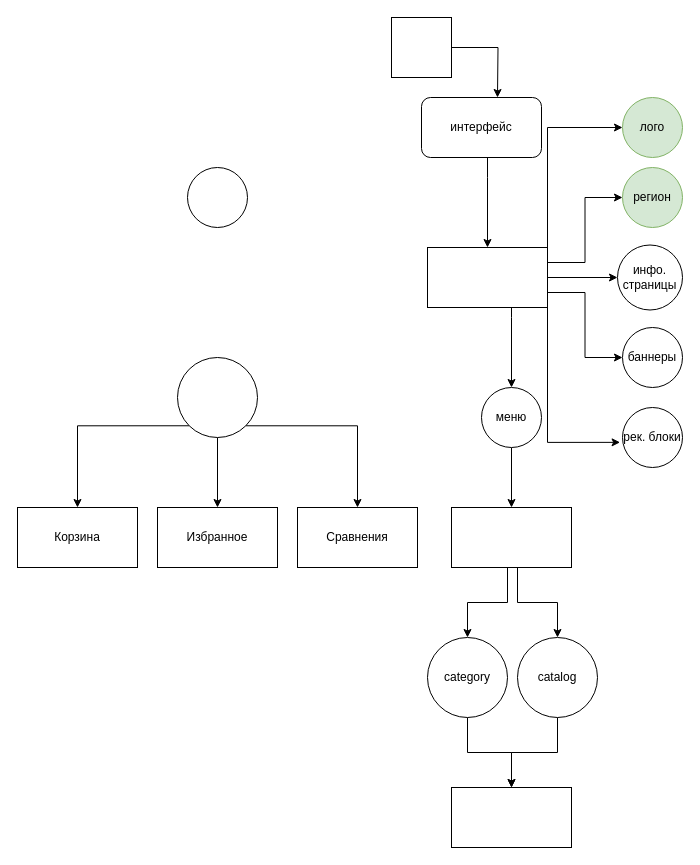
This 700x865 diagram has some shape labels left out. Here are the shapes that lost their labels. From the top down, the centre of each, then its label:
At point 421,47: "сайт".
At point 217,197: "поиск".
At point 487,277: "главная страница".
At point 217,397: "кнопки корзина избранное сравнения".
At point 511,537: "листинг".
At point 511,817: "карточка товара".
